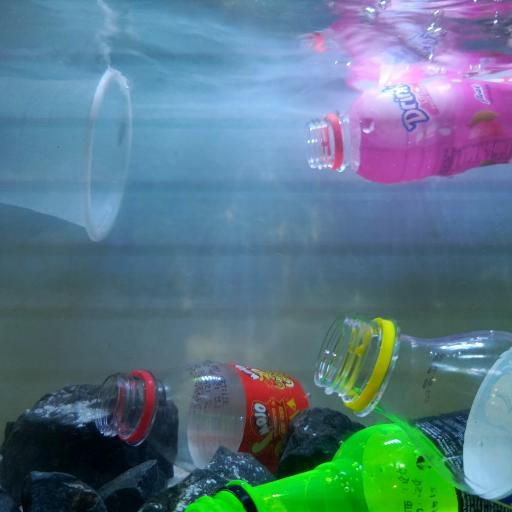plastic_bottle: (313, 312, 512, 512), (192, 408, 512, 512), (93, 361, 333, 472), (305, 77, 512, 186)
plastic_cup: (0, 66, 134, 241)
